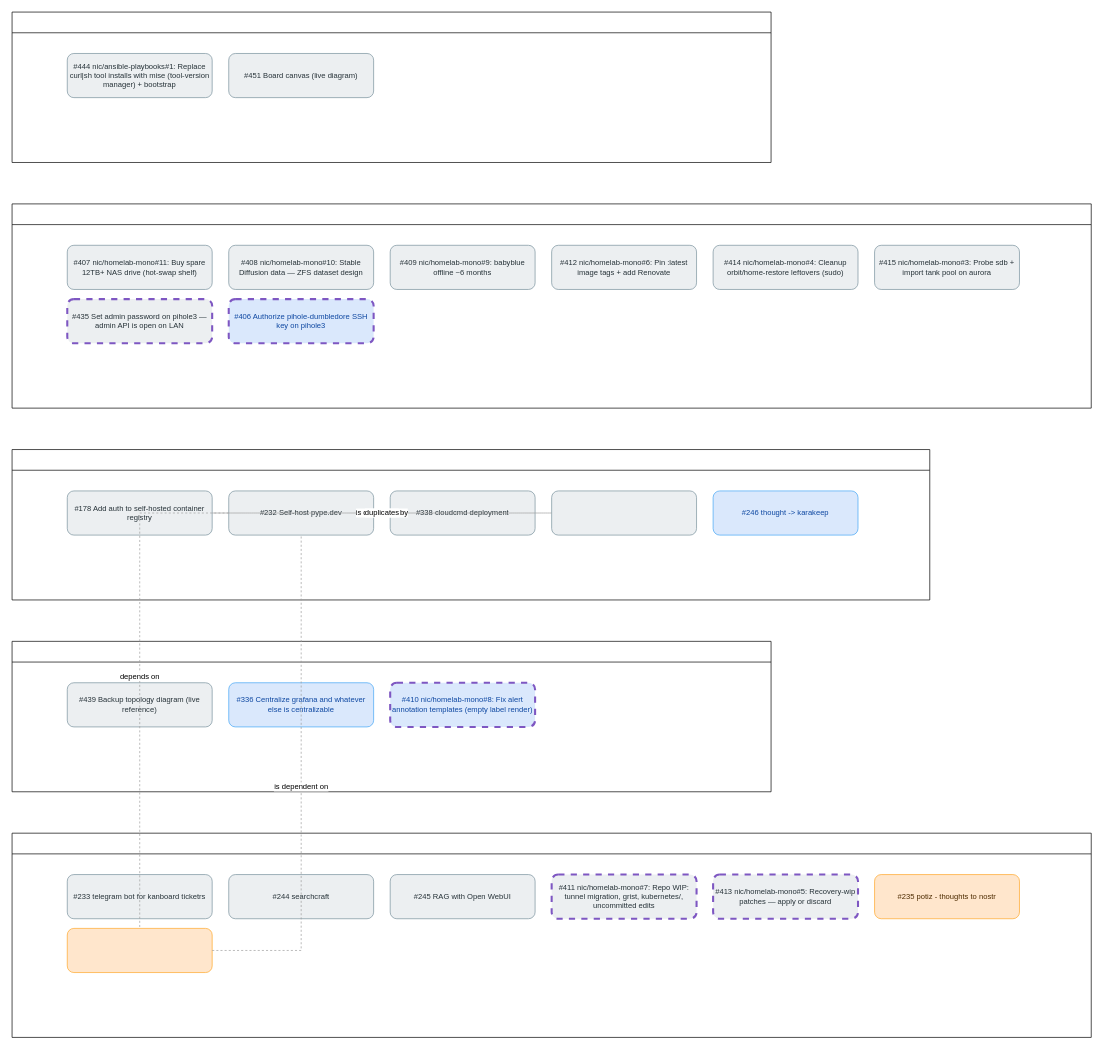
Image size: 1103x1049. Some labels were removed from this diagram. The box of each missing label's shape, as (x1, y1, x2, y2) in pixels:
#238 sync thoughts to blog: (67, 928, 212, 973)
#346 Repoflow private pull bug: (551, 490, 697, 535)
Infrastructure: (11, 203, 1091, 408)
Observability: (11, 641, 771, 792)
Projects: (11, 832, 1091, 1037)
Services: (11, 449, 930, 600)
Uncategorized: (11, 11, 771, 162)
